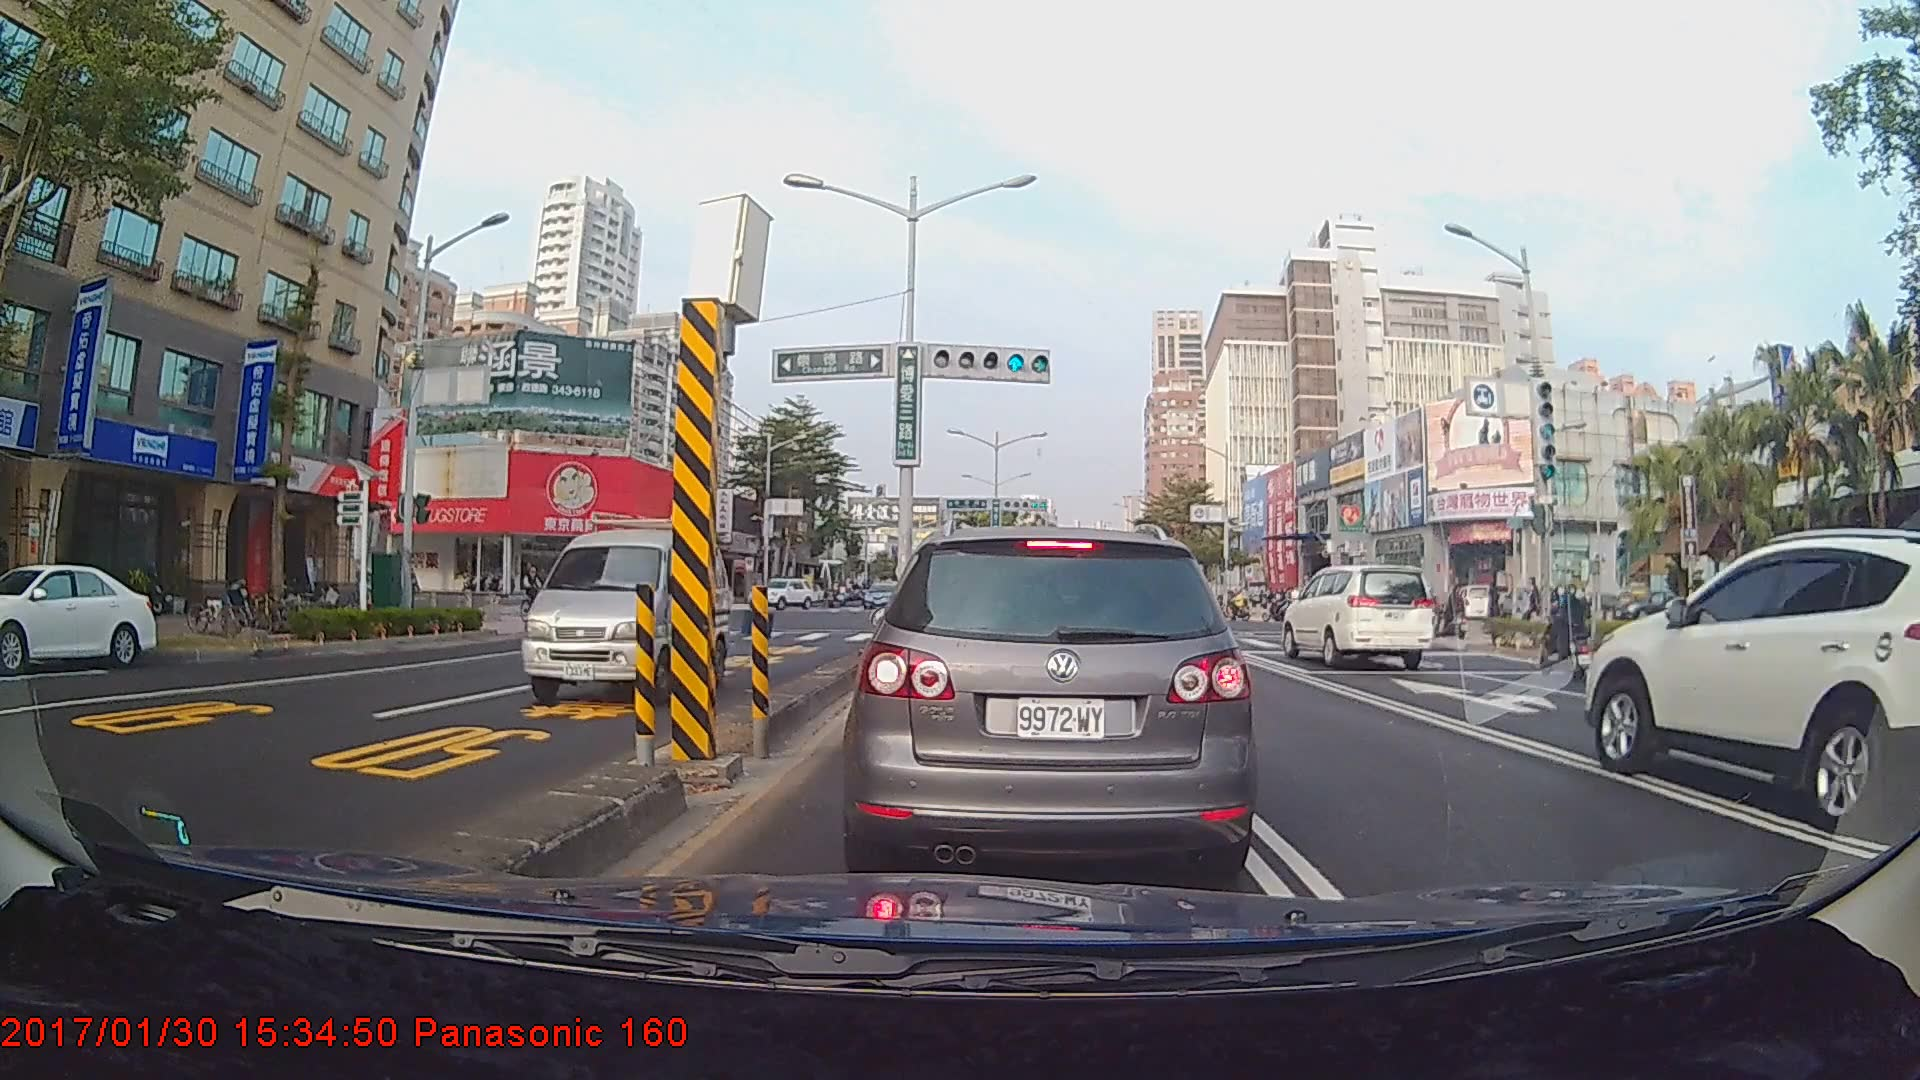pedestrian: (1487, 579, 1508, 637)
rider: (1528, 585, 1602, 687), (518, 559, 554, 629)
vehicle: (853, 520, 1251, 879), (1587, 526, 1920, 835), (519, 510, 730, 705), (0, 561, 158, 671), (1277, 563, 1436, 668), (861, 579, 901, 610)
